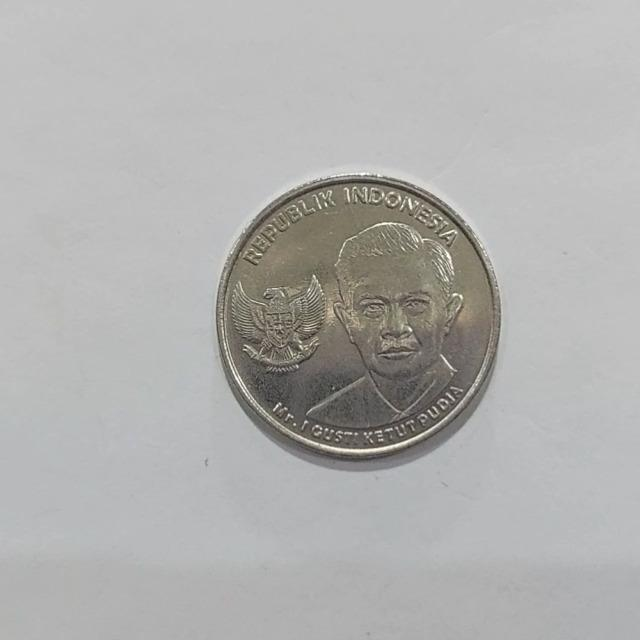Rp100: (215, 171, 502, 462), (301, 219, 467, 433)
